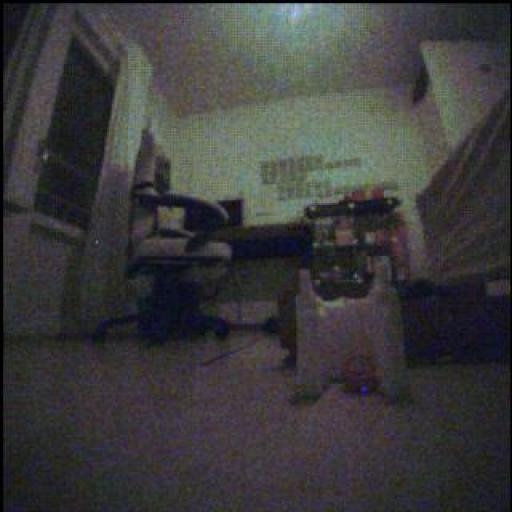basket: (340, 352, 378, 394)
